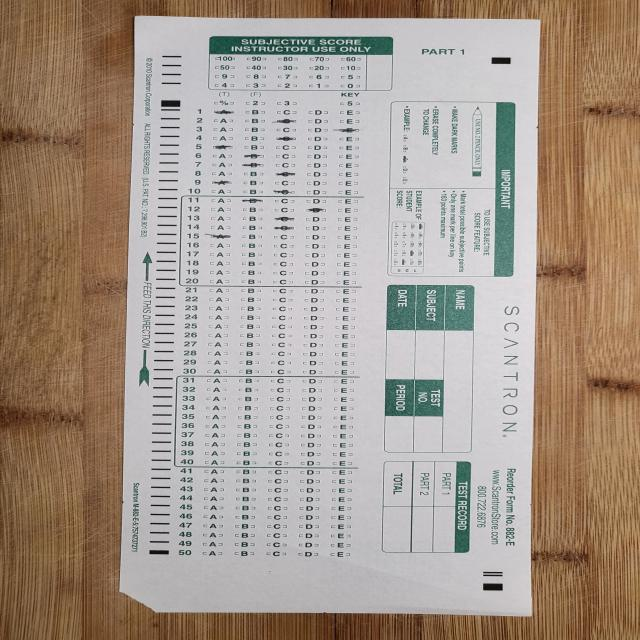scantron: (118, 17, 542, 617)
